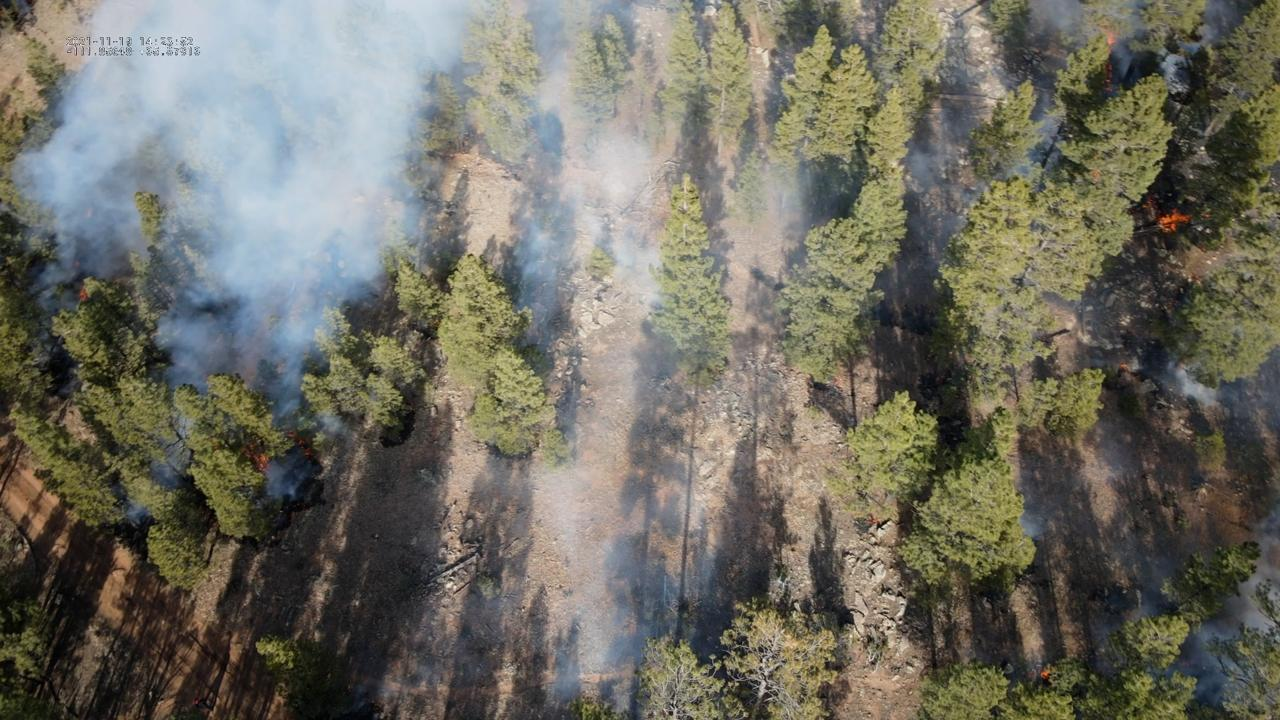fire: (240, 442, 272, 481), (1100, 29, 1117, 94), (284, 427, 313, 462), (1158, 208, 1194, 234), (78, 284, 89, 305), (1039, 668, 1052, 682), (1140, 195, 1153, 209), (1091, 169, 1100, 183), (1201, 213, 1210, 218)
smoke: (6, 0, 858, 532), (898, 0, 1280, 244), (1088, 492, 1280, 720), (553, 533, 717, 720), (1132, 359, 1220, 406), (1015, 515, 1047, 543)
